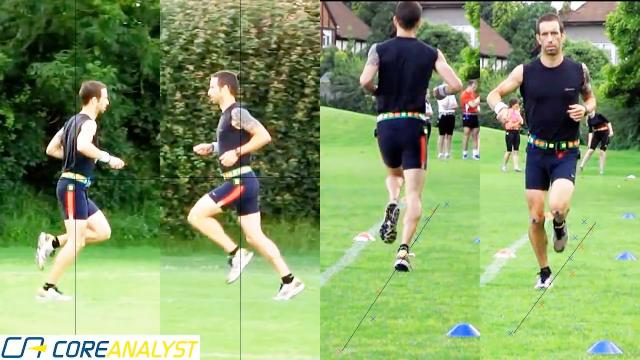berlari: (158, 67, 310, 308), (482, 12, 606, 286), (358, 0, 464, 286), (27, 76, 125, 300)
